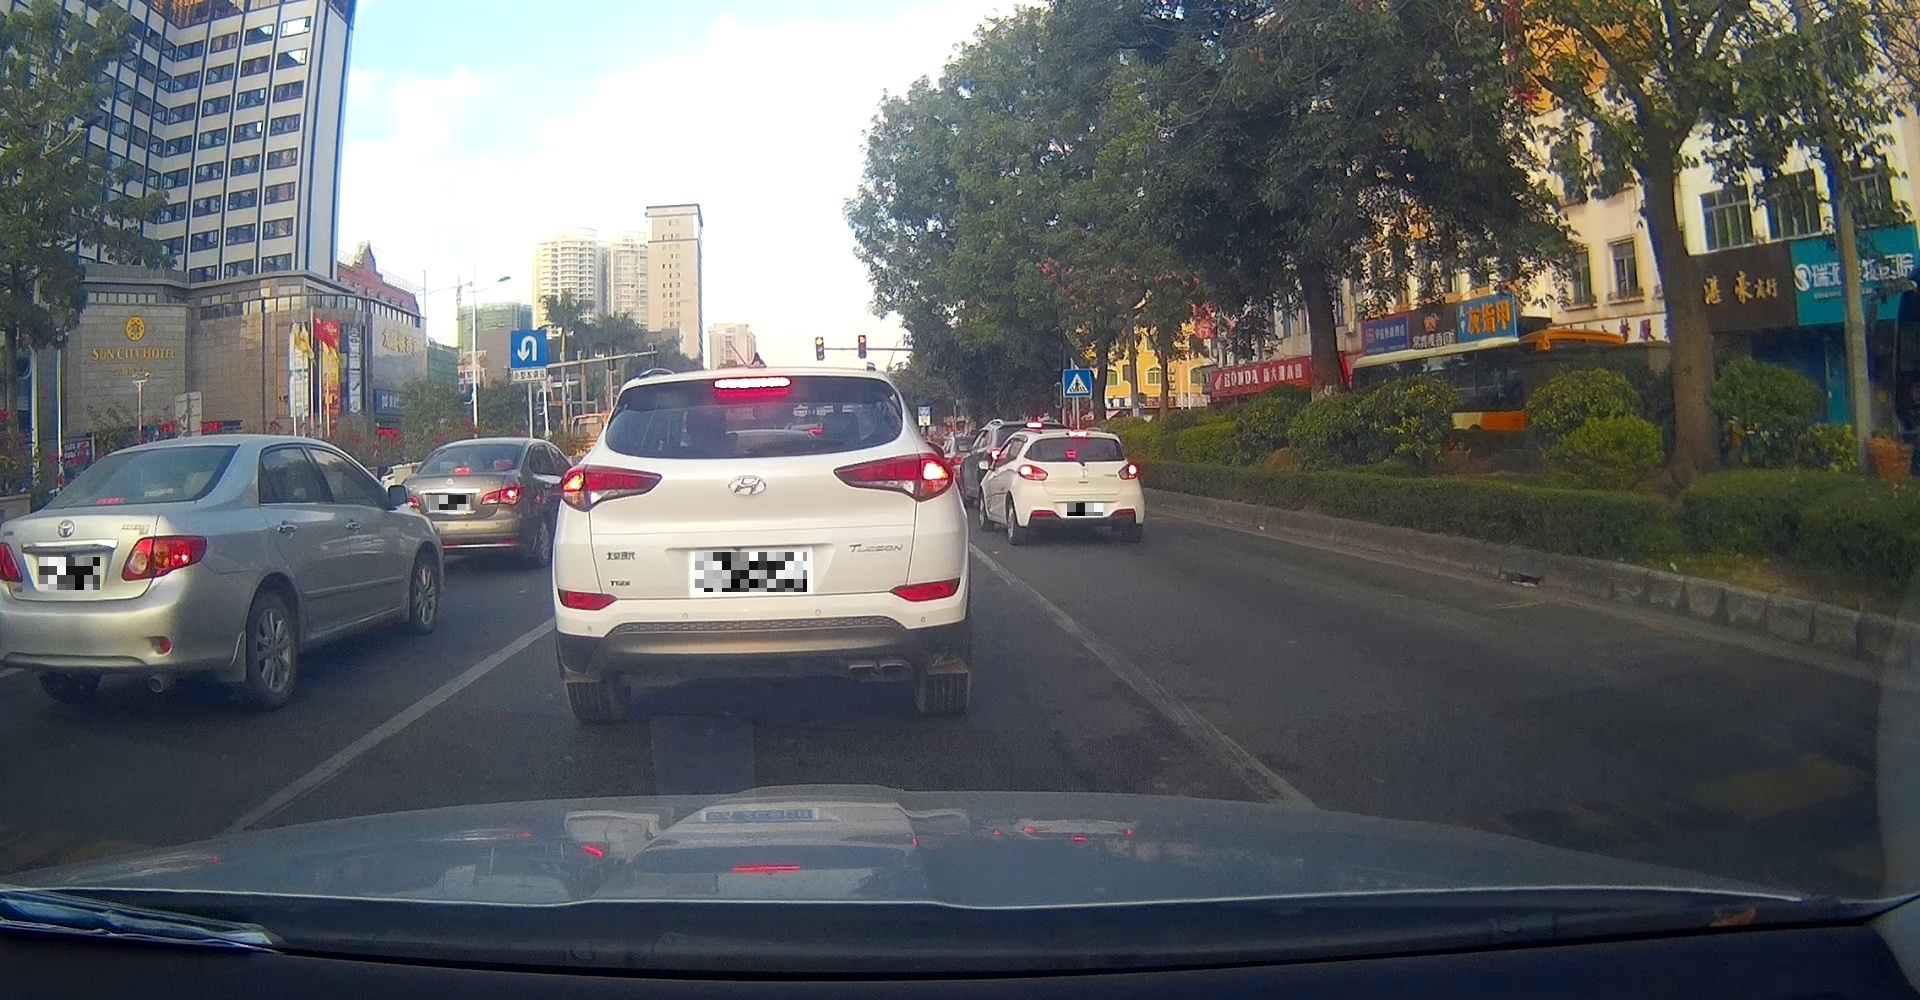L_light: (560, 464, 663, 511), (0, 543, 22, 582), (1017, 464, 1048, 481)
R_light: (832, 451, 954, 503), (119, 534, 207, 582), (1117, 462, 1139, 480)
T_light: (712, 377, 790, 388), (95, 497, 124, 506), (1068, 431, 1086, 437)
day-brake: (559, 365, 968, 725), (0, 433, 241, 709), (1017, 430, 1144, 544)
plate_1: (39, 557, 100, 590)
plate_2: (430, 495, 469, 510)
plate_3: (695, 552, 808, 591)
plate_4: (1067, 503, 1103, 516)
